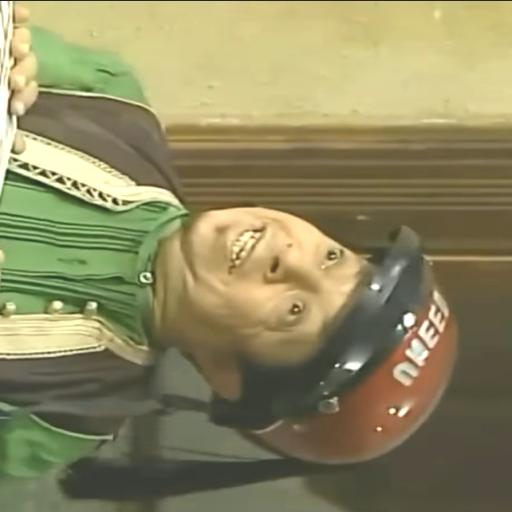fouchika: (182, 206, 361, 360)
